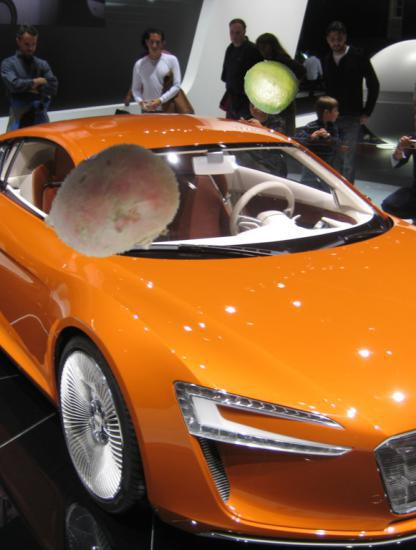Limes: (243, 59, 298, 114)
Potato: (43, 135, 184, 276)
